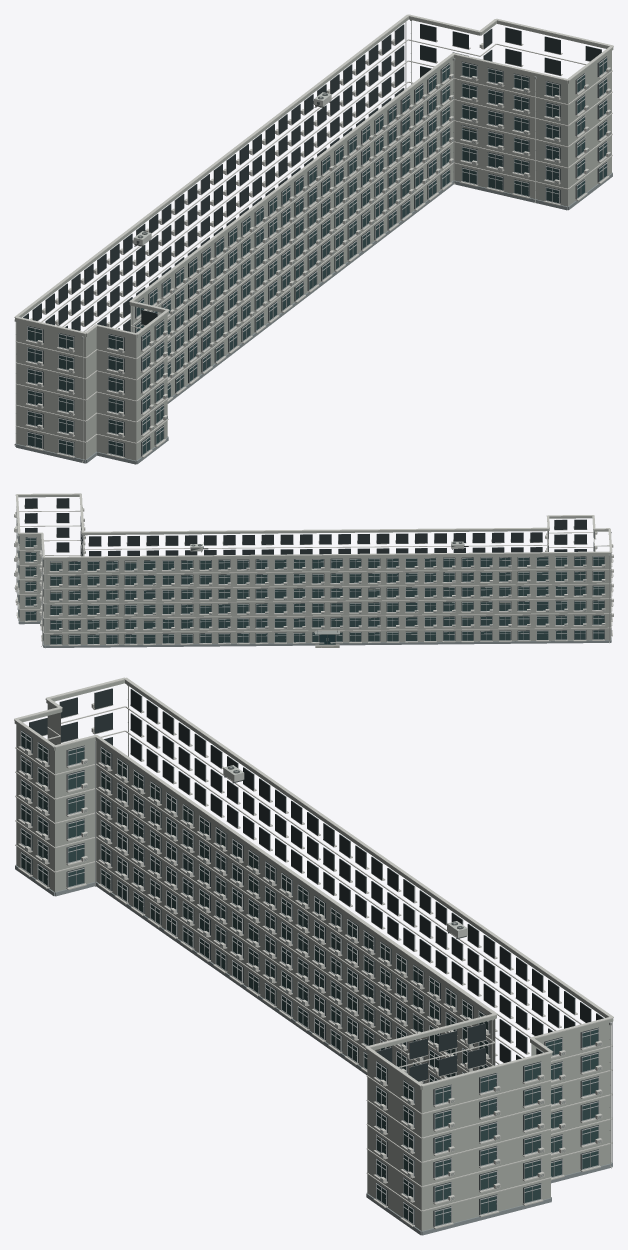
Rendered from osm_way_225253707.glb.
3 views of the same model, one above another, from view 1: azimuth 30°, elevation 25°; view 2: azimuth 150°, elevation 25°; view 3: azimuth 270°, elevation 25° (orthographic). The views are drawn at different scales.
Visible parts, largest first — view 1: Windows and facade details | 47, Architecture | 47, Roof services | 47, EXTERIOR::osm_way_225253707::rainwater and roof service deta; view 2: Windows and facade details | 47, Architecture | 47, Roof services | 47, EXTERIOR::osm_way_225253707::rainwater and roof service deta, EXTERIOR::osm_way_225253707::inferred entry doors canopy and; view 3: Windows and facade details | 47, Architecture | 47, Roof services | 47, EXTERIOR::osm_way_225253707::rainwater and roof service deta.
Boxes of the visible parts, box(x1,y1,x2,y2) form: Windows and facade details | 47: box(23, 22, 610, 458); Architecture | 47: box(15, 16, 613, 464); Roof services | 47: box(14, 14, 613, 335); EXTERIOR::osm_way_225253707::rainwater and roof service deta: box(14, 20, 536, 463); Windows and facade details | 47: box(14, 498, 613, 648); Architecture | 47: box(16, 495, 611, 647); Roof services | 47: box(15, 493, 612, 558); EXTERIOR::osm_way_225253707::rainwater and roof service deta: box(41, 507, 611, 646); EXTERIOR::osm_way_225253707::inferred entry doors canopy and: box(315, 629, 339, 647); Windows and facade details | 47: box(18, 688, 612, 1228); Architecture | 47: box(14, 680, 613, 1235); Roof services | 47: box(14, 677, 613, 1086); EXTERIOR::osm_way_225253707::rainwater and roof service deta: box(127, 685, 611, 1168).
Size of the model in its own units: 115 by 20.58 by 71.58.
